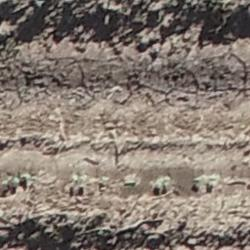cotton: (209, 177, 217, 184), (13, 178, 19, 185), (24, 176, 30, 183), (193, 181, 199, 186), (80, 184, 84, 187)
